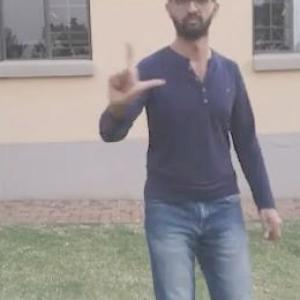land_hand: (94, 38, 169, 114)
